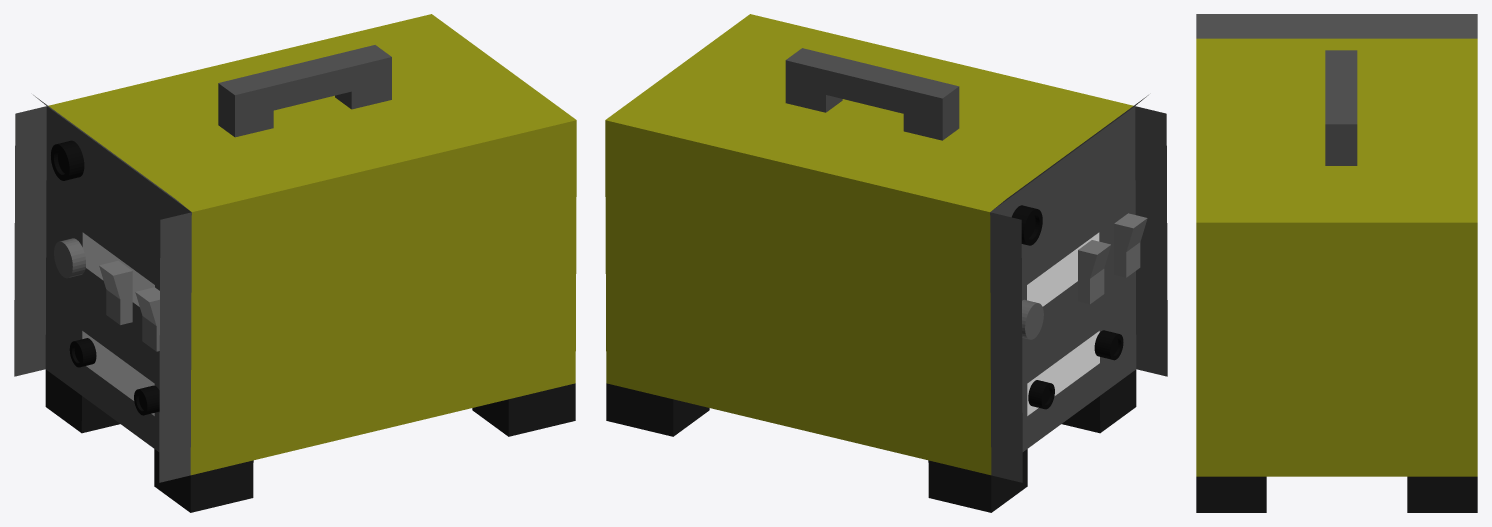
The model's file is Inverter.fbx.
3 views of the same model, side by side, from view 1: azimuth 30°, elevation 25°; view 2: azimuth 150°, elevation 25°; view 3: azimuth 270°, elevation 25° (orthographic). The views are drawn at different scales.
Visible parts, largest first — view 1: Cube, Cube.003, Cube.001, Cube.002, Cylinder.001, Cylinder, Cylinder.002, Cylinder.003; view 2: Cube, Cube.003, Cube.002, Cube.001, Cylinder.001, Cylinder, Cylinder.002, Cylinder.003; view 3: Cube, Cube.003.
Part boxes in pixels (x1=…): Cube: x1=14, y1=14, x2=576, y2=512; Cube.003: x1=218, y1=45, x2=391, y2=137; Cube.001: x1=99, y1=260, x2=132, y2=324; Cube.002: x1=135, y1=287, x2=159, y2=351; Cylinder.001: x1=51, y1=140, x2=84, y2=180; Cylinder: x1=54, y1=238, x2=85, y2=278; Cylinder.002: x1=134, y1=385, x2=159, y2=415; Cylinder.003: x1=69, y1=338, x2=96, y2=367; Cube: x1=605, y1=14, x2=1167, y2=512; Cube.003: x1=785, y1=48, x2=959, y2=140; Cube.002: x1=1114, y1=213, x2=1147, y2=277; Cube.001: x1=1078, y1=240, x2=1110, y2=304; Cylinder.001: x1=1012, y1=205, x2=1042, y2=245; Cylinder: x1=1022, y1=299, x2=1043, y2=339; Cylinder.002: x1=1094, y1=330, x2=1123, y2=360; Cylinder.003: x1=1028, y1=380, x2=1054, y2=409; Cube: x1=1196, y1=14, x2=1477, y2=512; Cube.003: x1=1325, y1=50, x2=1357, y2=165.
Bounding box in the file's own units: 333 × 262 × 200.
